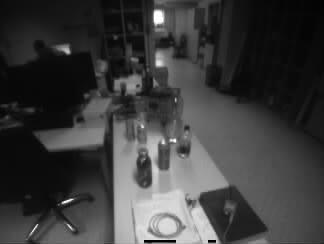Bottle: (136, 148, 152, 187), (180, 125, 191, 157)
Tin can: (159, 142, 168, 169), (126, 121, 134, 140), (137, 124, 145, 142)
